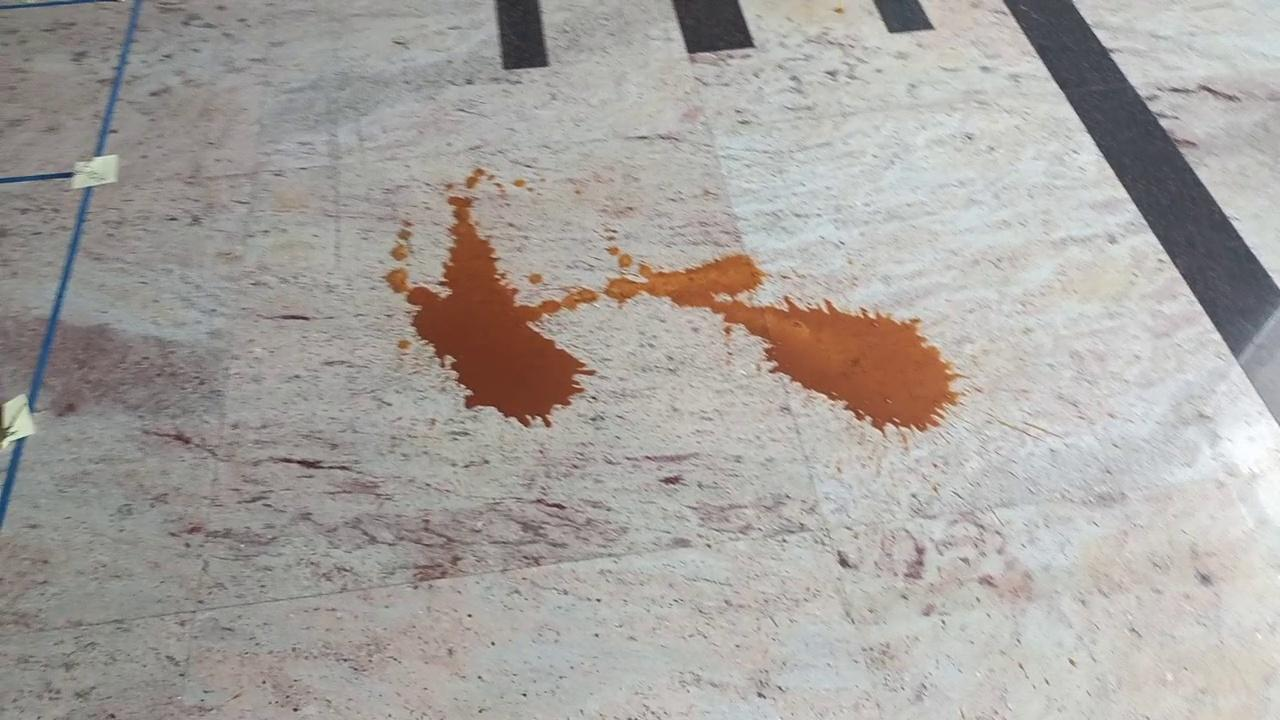dirty_floor: (399, 167, 958, 437)
